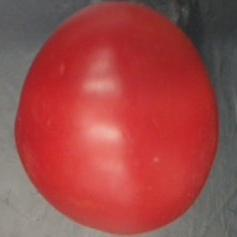unripe: (13, 0, 227, 237)
